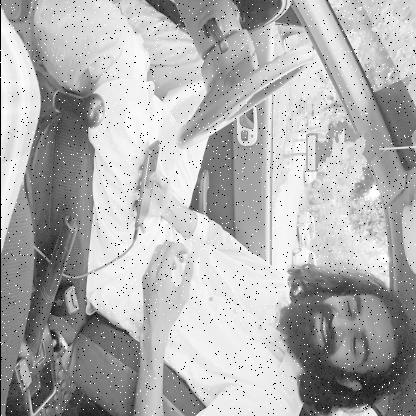no_seatbelt: (178, 239, 416, 396)
